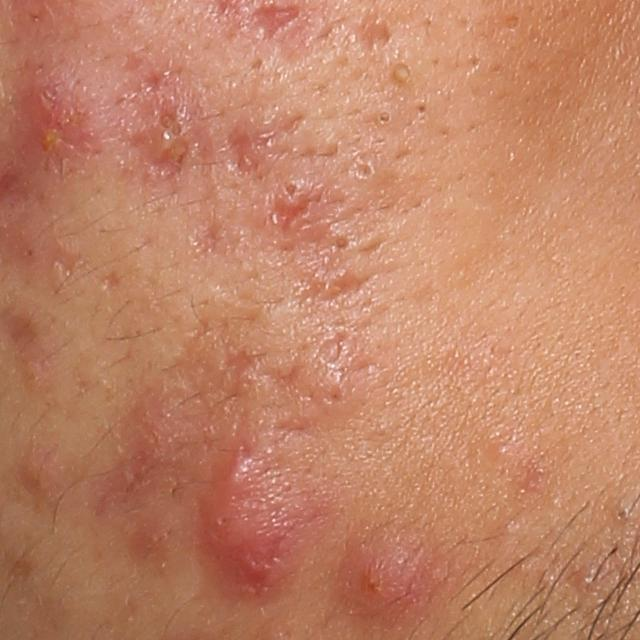atrophic_scar: (119, 306, 279, 496), (242, 1, 310, 57), (297, 333, 353, 400), (272, 187, 331, 245), (226, 121, 274, 181), (295, 270, 381, 302), (46, 240, 94, 291), (343, 14, 396, 56), (98, 269, 121, 291)
comedo: (386, 56, 412, 88), (352, 158, 381, 185), (611, 503, 635, 527), (374, 106, 398, 129), (574, 570, 597, 592), (500, 11, 523, 32), (414, 99, 431, 119)
nodule: (197, 440, 344, 613)
papule: (335, 521, 445, 616), (13, 457, 59, 500), (275, 175, 311, 210)
